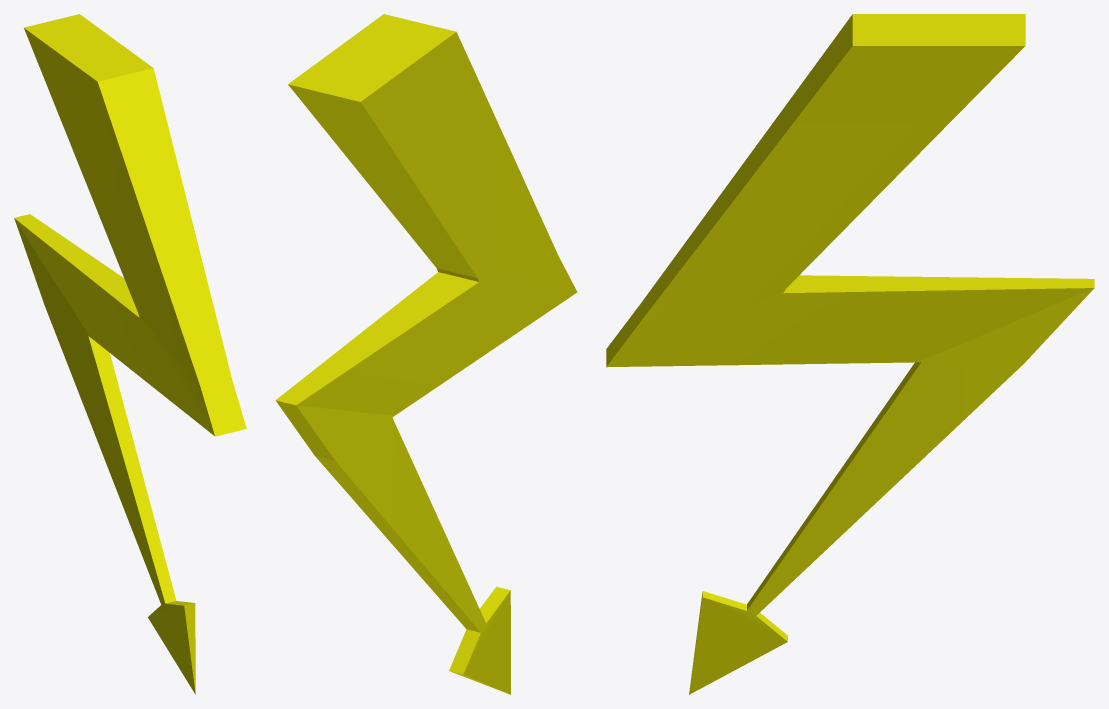
File: Speedboost.fbx
The picture shows the model from 3 angles, left to right: view 1: azimuth 30°, elevation 25°; view 2: azimuth 150°, elevation 25°; view 3: azimuth 270°, elevation 25°; orthographic projection. The views are drawn at different scales.
Parts seen in each view (by area): view 1: pCube1; view 2: pCube1; view 3: pCube1.
Part boxes in pixels (x1=…): pCube1: x1=14, y1=14, x2=246, y2=694; pCube1: x1=275, y1=14, x2=577, y2=694; pCube1: x1=606, y1=14, x2=1094, y2=694.
Bounding box in the file's own units: 0.436 × 4.23 × 2.82.
